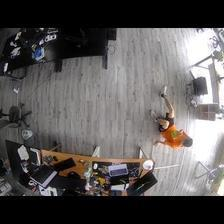fall: (149, 86, 194, 148)
